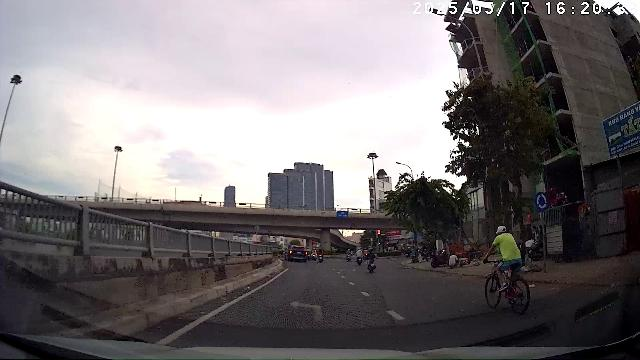303-noi-giao-nhau-chay-theo-vong-xuyen: (534, 191, 549, 211)
